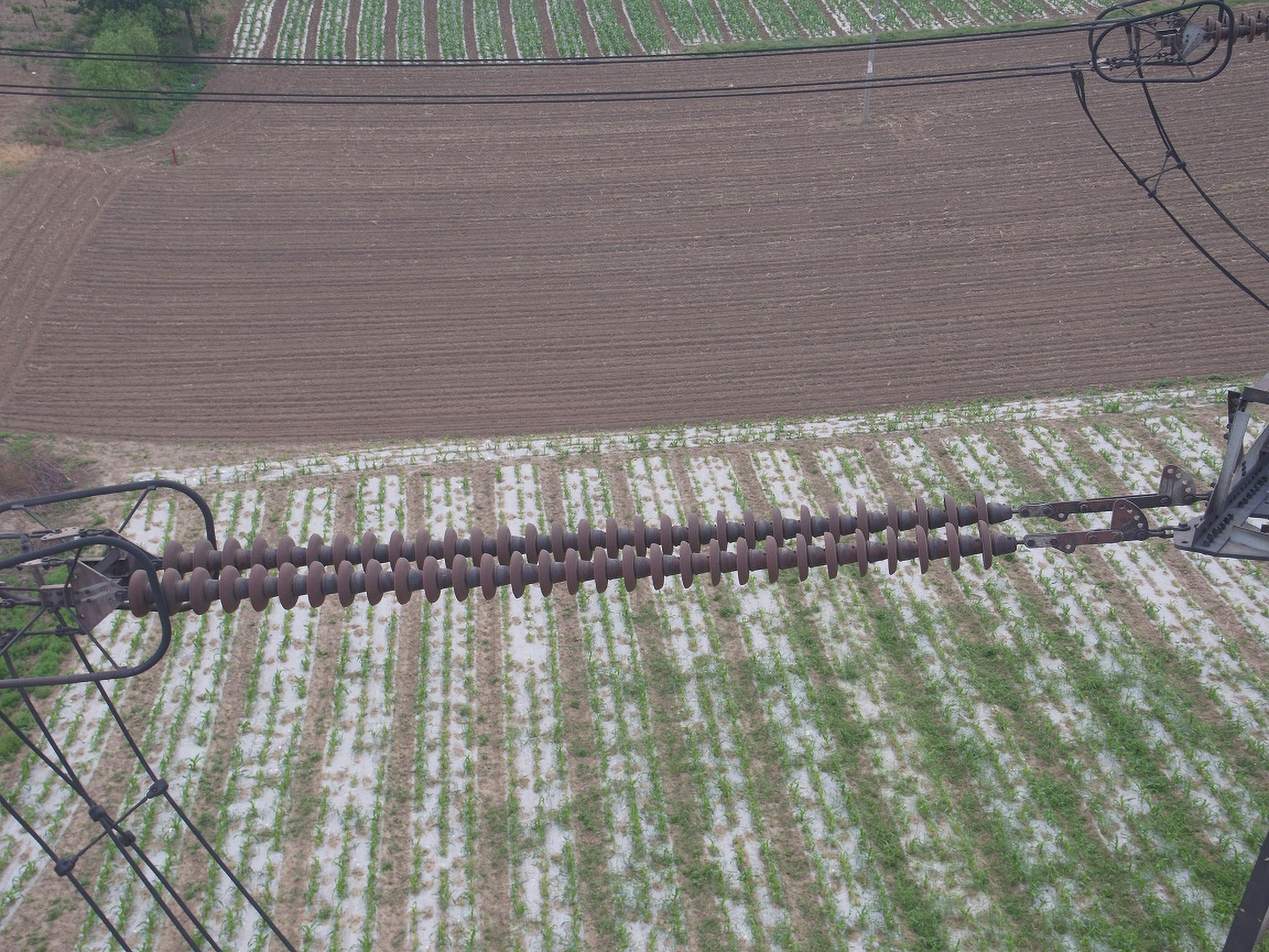insulator: (122, 484, 1000, 621), (1200, 6, 1269, 50)
